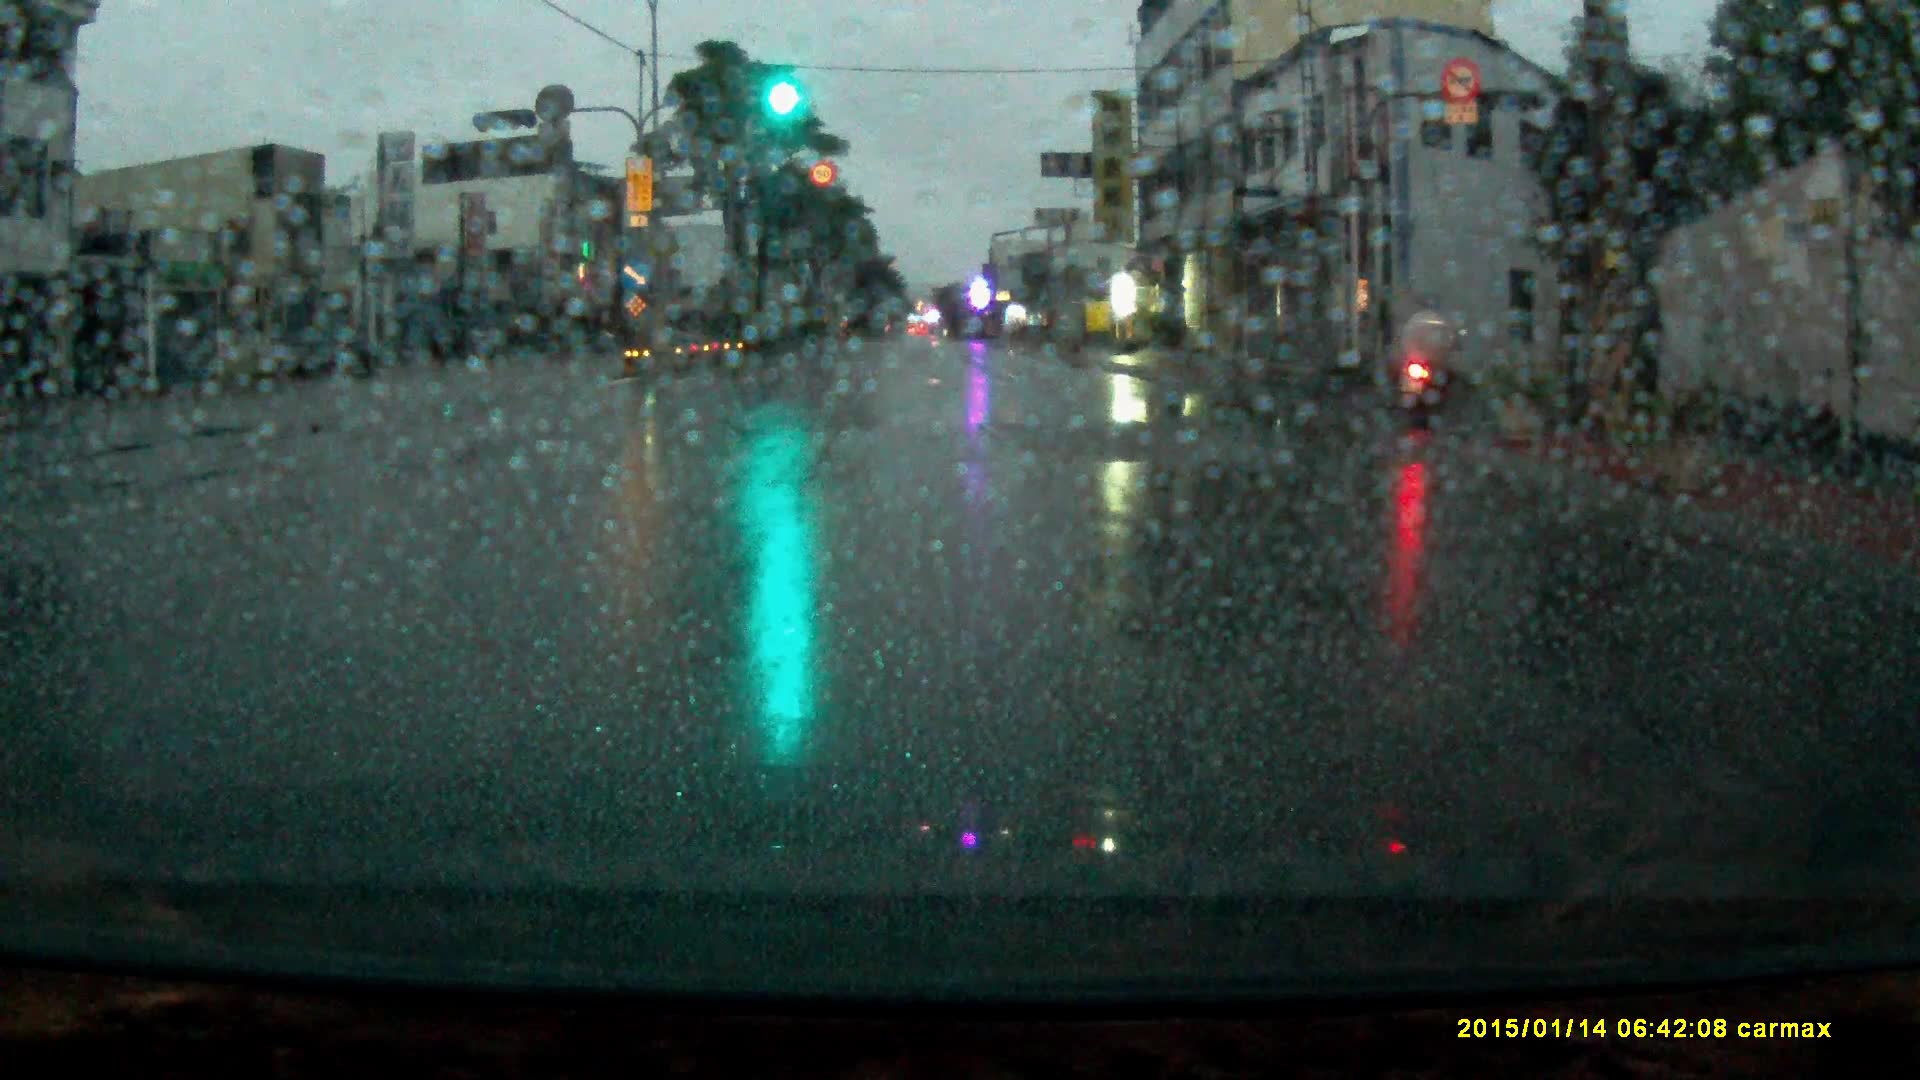rider: (1397, 289, 1472, 423)
